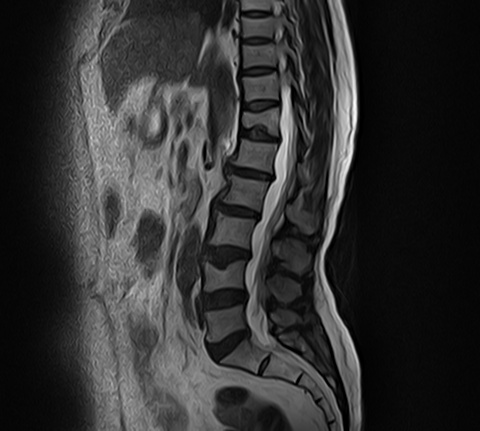L1,v2: (233, 143, 280, 170)
L1-L2,v2: (228, 160, 275, 187)
L2,v2: (221, 178, 268, 205)
L2-L3,v2: (215, 197, 262, 224)
L3,v2: (210, 217, 257, 244)
L3-L4,v2: (203, 238, 250, 265)
L3-L4,v5: (203, 238, 250, 265)
L4,v2: (202, 264, 249, 291)
L4-L5,v2: (200, 284, 247, 311)
L5,v2: (201, 309, 248, 336)
L5-S1,v2: (207, 328, 254, 355)
T12-L1,v5: (234, 122, 281, 149)
